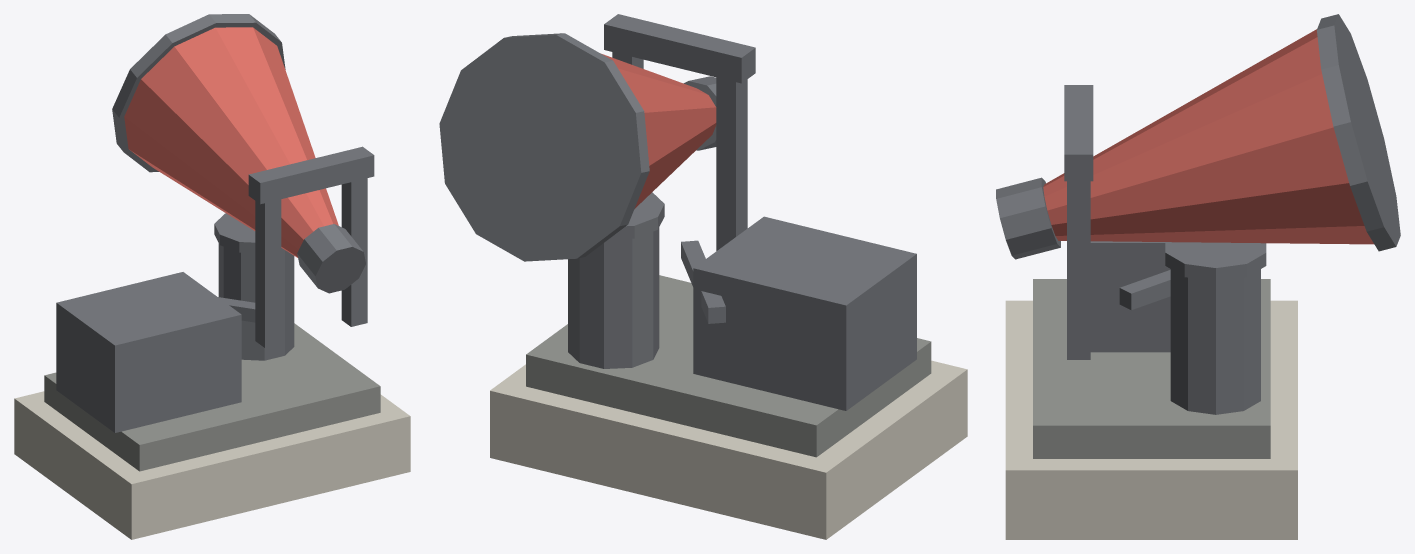
File: foghorn.glb
3 renders of one model, left to right at view 1: azimuth 30°, elevation 25°; view 2: azimuth 150°, elevation 25°; view 3: azimuth 270°, elevation 25°, orthographic. The views are drawn at different scales.
Visible parts, largest first — view 1: foghorn-on-mounting; view 2: foghorn-on-mounting; view 3: foghorn-on-mounting.
Boxes of the visible parts, x1,y1,x2,y2 form: foghorn-on-mounting: (14,14,410,539); foghorn-on-mounting: (439,14,967,539); foghorn-on-mounting: (996,14,1400,539).
Bounding box in the file's own units: 2.31 × 2.85 × 2.21.
